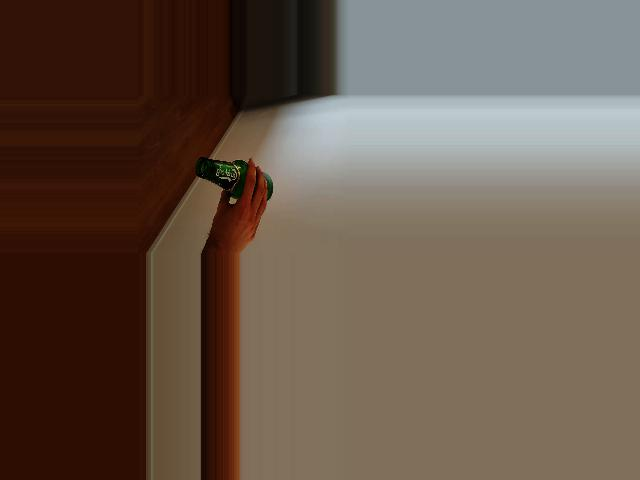beer: (194, 157, 272, 199)
